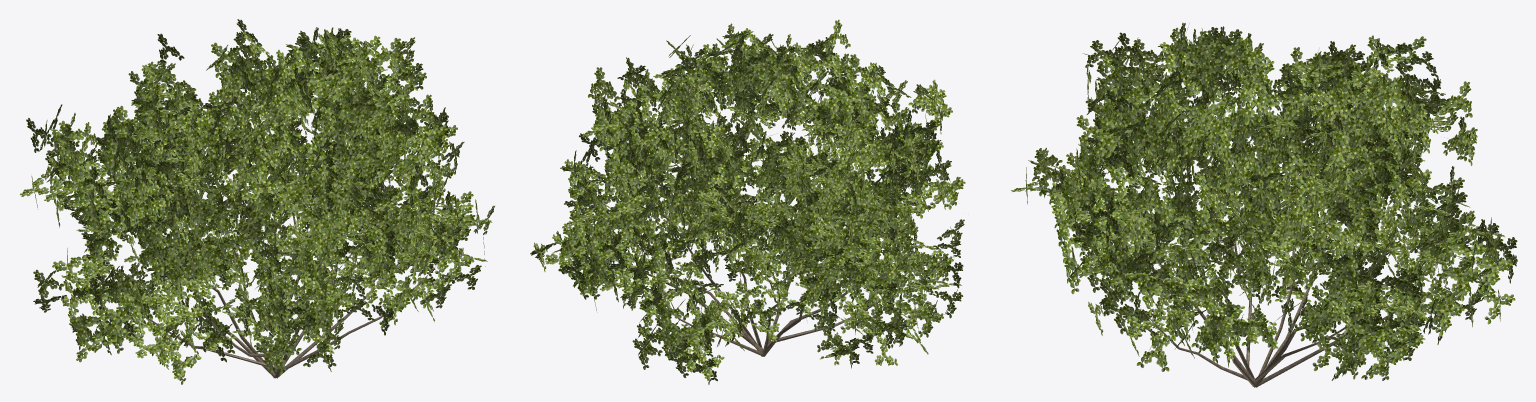
Rendered from Cercocarpus_Montanus_Spring_Young.glb.
3 views of the same model, side by side, from view 1: azimuth 30°, elevation 25°; view 2: azimuth 150°, elevation 25°; view 3: azimuth 270°, elevation 25° (orthographic). The views are drawn at different scales.
Visible parts, largest first — view 1: Cercocarpus_Montanus_Spring_Young__LOD3; view 2: Cercocarpus_Montanus_Spring_Young__LOD3; view 3: Cercocarpus_Montanus_Spring_Young__LOD3.
Part boxes in pixels (bbox=[...]): Cercocarpus_Montanus_Spring_Young__LOD3: bbox=[20, 19, 494, 384]; Cercocarpus_Montanus_Spring_Young__LOD3: bbox=[530, 19, 965, 384]; Cercocarpus_Montanus_Spring_Young__LOD3: bbox=[1011, 23, 1517, 387].
Size of the model in its own units: 2.11 by 1.68 by 2.11.
Materials: 2 (2 with a texture image).
